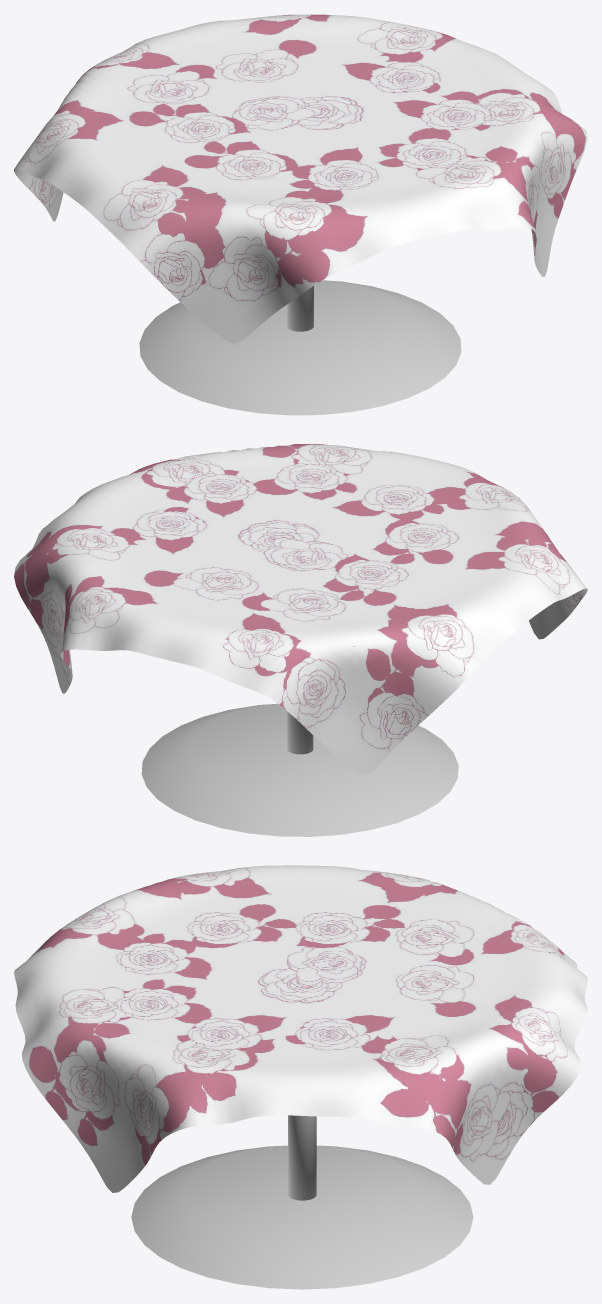
Rendered from Rundtisch.fbx.
3 views of the same model, one above another, from view 1: azimuth 30°, elevation 25°; view 2: azimuth 150°, elevation 25°; view 3: azimuth 270°, elevation 25° (orthographic). The views are drawn at different scales.
Visible parts, largest first — view 1: Tischdecke, RunderTisch; view 2: Tischdecke, RunderTisch; view 3: Tischdecke, RunderTisch.
Part boxes in pixels (<box>): Tischdecke: <box>14,14,587,343</box>; RunderTisch: <box>139,280,461,415</box>; Tischdecke: <box>14,444,587,774</box>; RunderTisch: <box>141,646,458,836</box>; Tischdecke: <box>14,865,587,1192</box>; RunderTisch: <box>131,1115,473,1289</box>.
Size of the model in its own units: 324 by 154 by 322.
